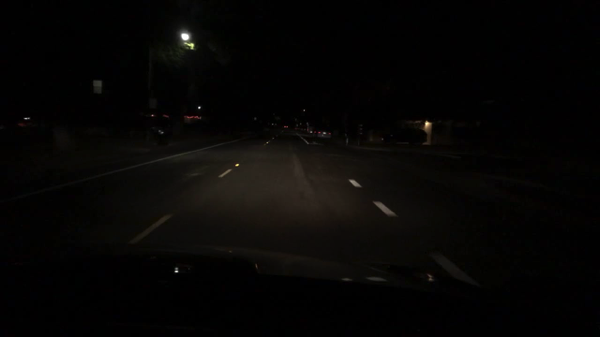car: (380, 125, 427, 147), (317, 128, 333, 141), (308, 128, 317, 137), (306, 126, 313, 135)
